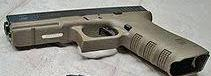gun: (1, 1, 211, 76)
